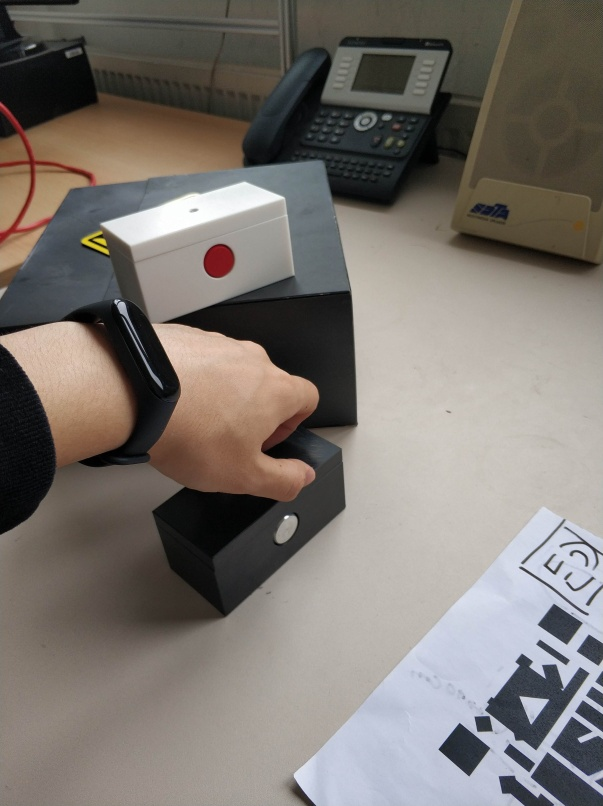black+black+silver: (148, 425, 349, 620)
white+white+red: (96, 179, 299, 318)
